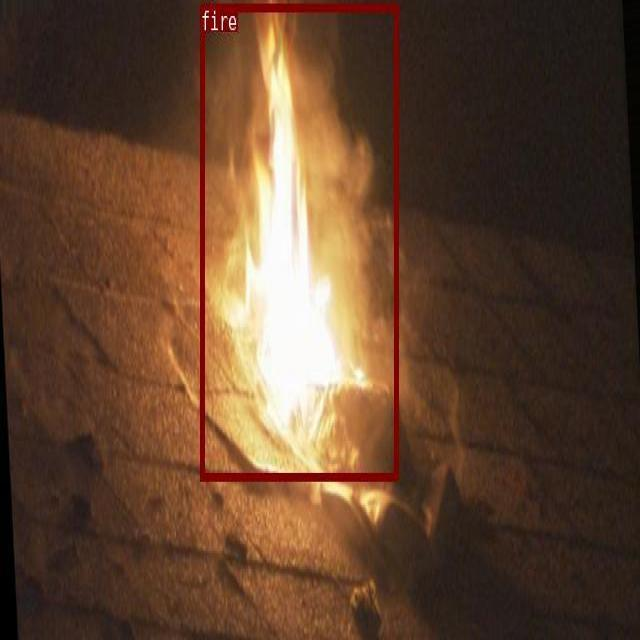fire: (200, 4, 398, 480)
